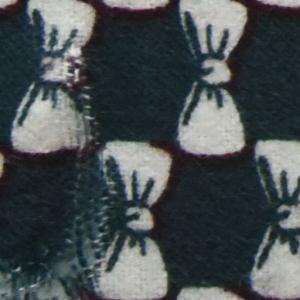Damage: (1, 39, 126, 300)
